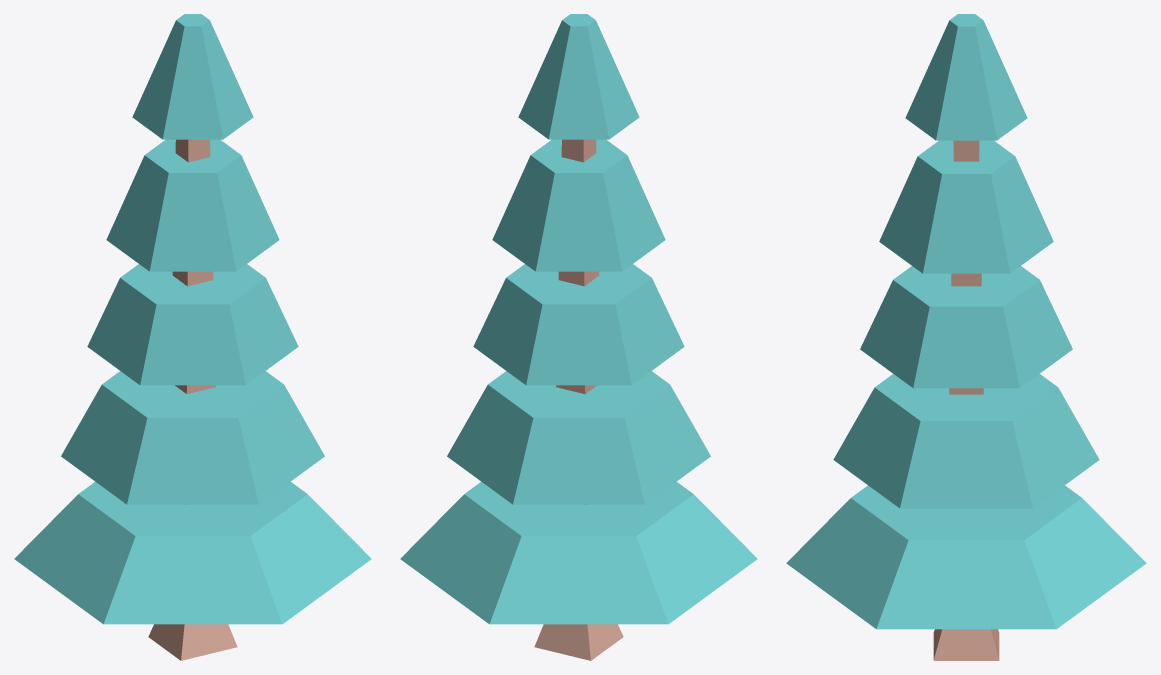
The model's file is treePineRound.glb.
The picture shows the model from 3 angles, left to right: view 1: azimuth 30°, elevation 25°; view 2: azimuth 150°, elevation 25°; view 3: azimuth 270°, elevation 25°; orthographic projection.
Visible parts, largest first — view 1: treePineRound; view 2: treePineRound; view 3: treePineRound.
Part boxes in pixels (<box>): treePineRound: <box>14,14,371,660</box>; treePineRound: <box>400,14,757,660</box>; treePineRound: <box>786,14,1146,660</box>.
Bounding box in the file's own units: 0.617 × 1.37 × 0.7125.
